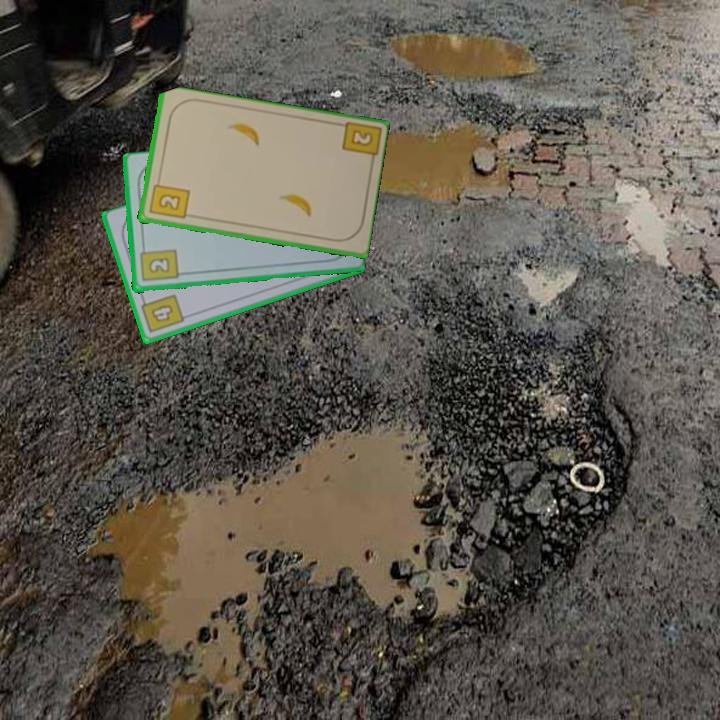2b: (145, 175, 191, 222), (136, 242, 180, 285), (347, 126, 376, 149)
4b: (138, 291, 187, 336)
